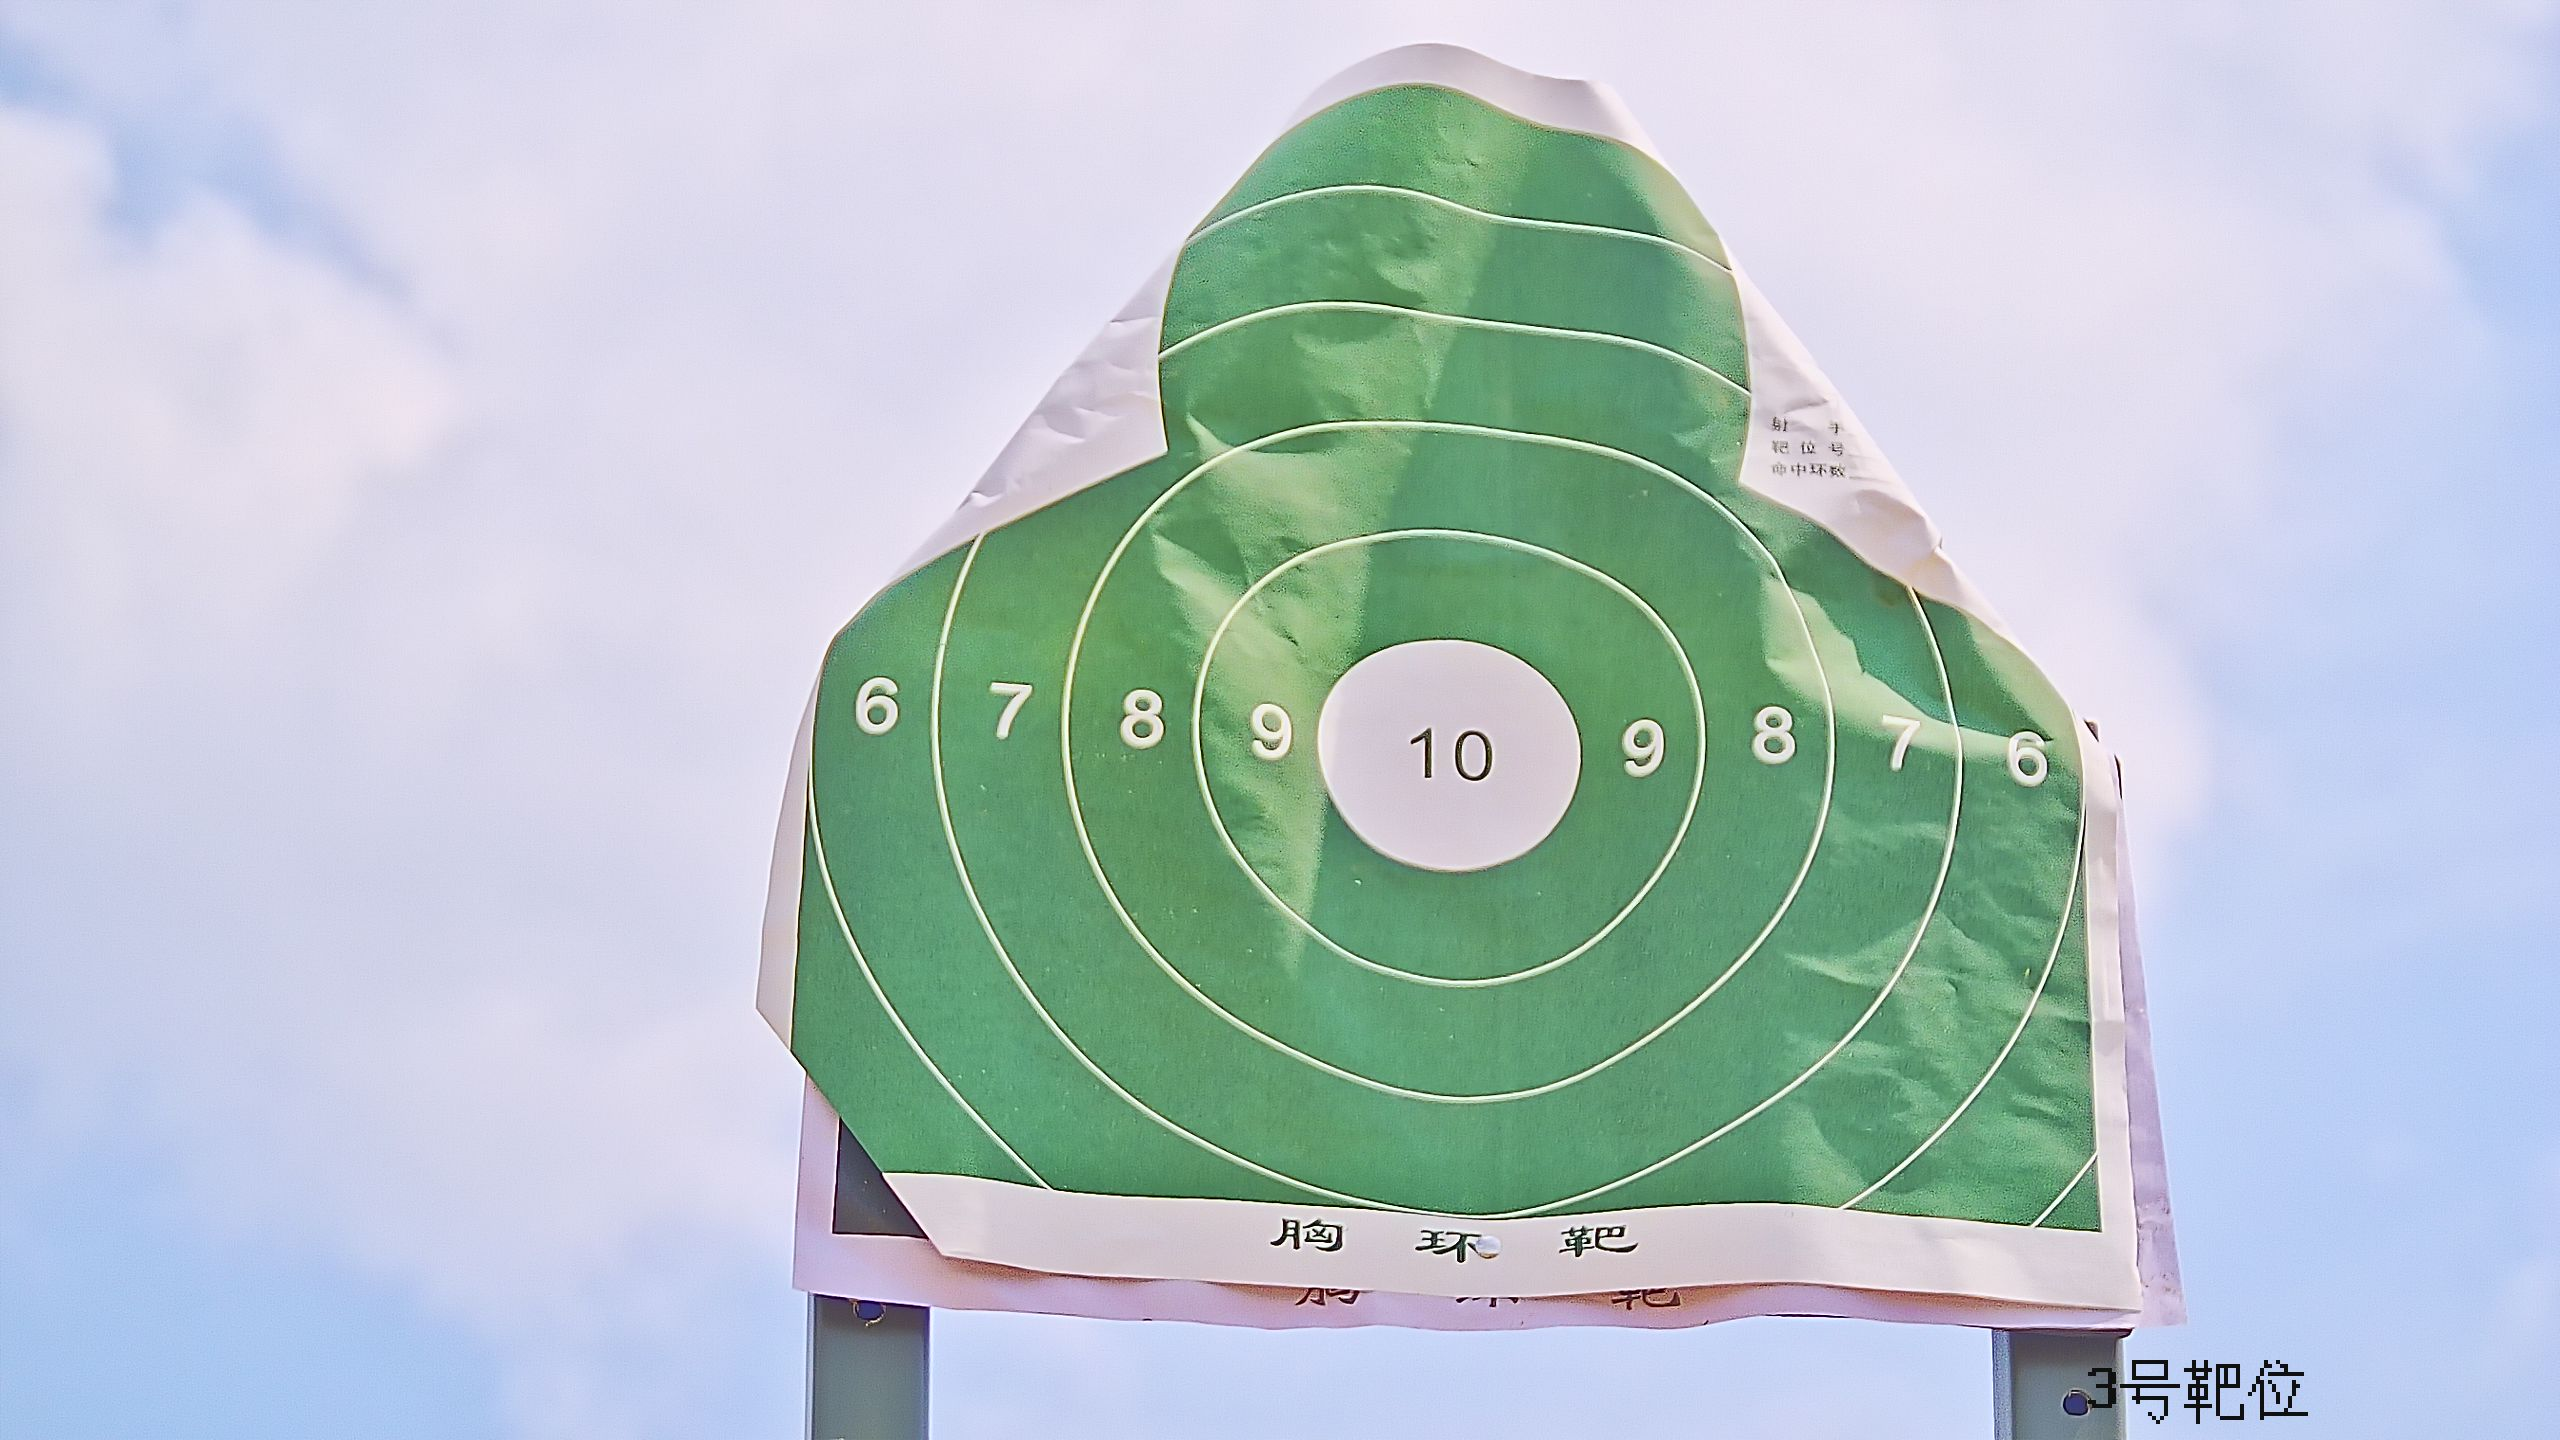kernel: (1438, 754, 1449, 756)
target: (788, 83, 2105, 1238)
ten: (1315, 636, 1588, 877)
